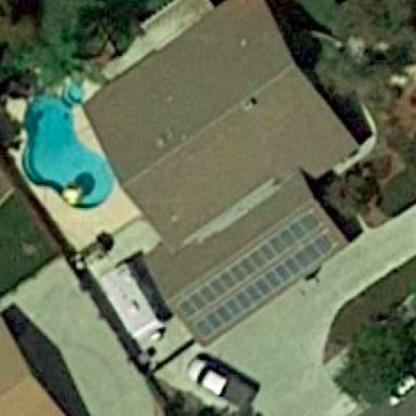car: (171, 350, 265, 404)
solar_panel: (171, 198, 367, 350)
swimming_pool: (10, 63, 127, 227)
